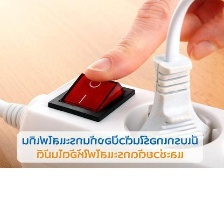three_eye_plug: (8, 67, 224, 180)
